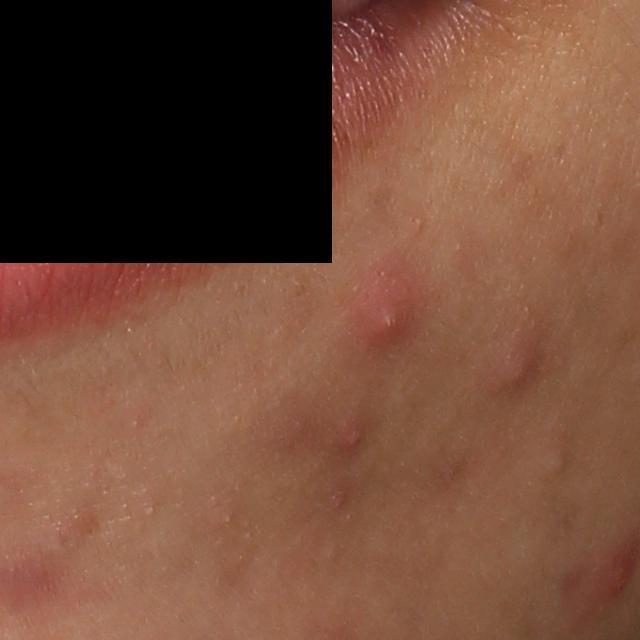comedo: (539, 449, 568, 476)
papule: (335, 254, 420, 363), (479, 335, 555, 403), (339, 407, 371, 455)
